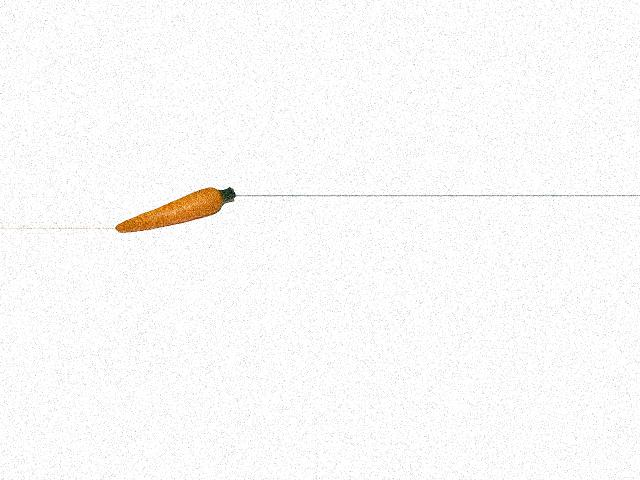carrot: (116, 186, 236, 232)
